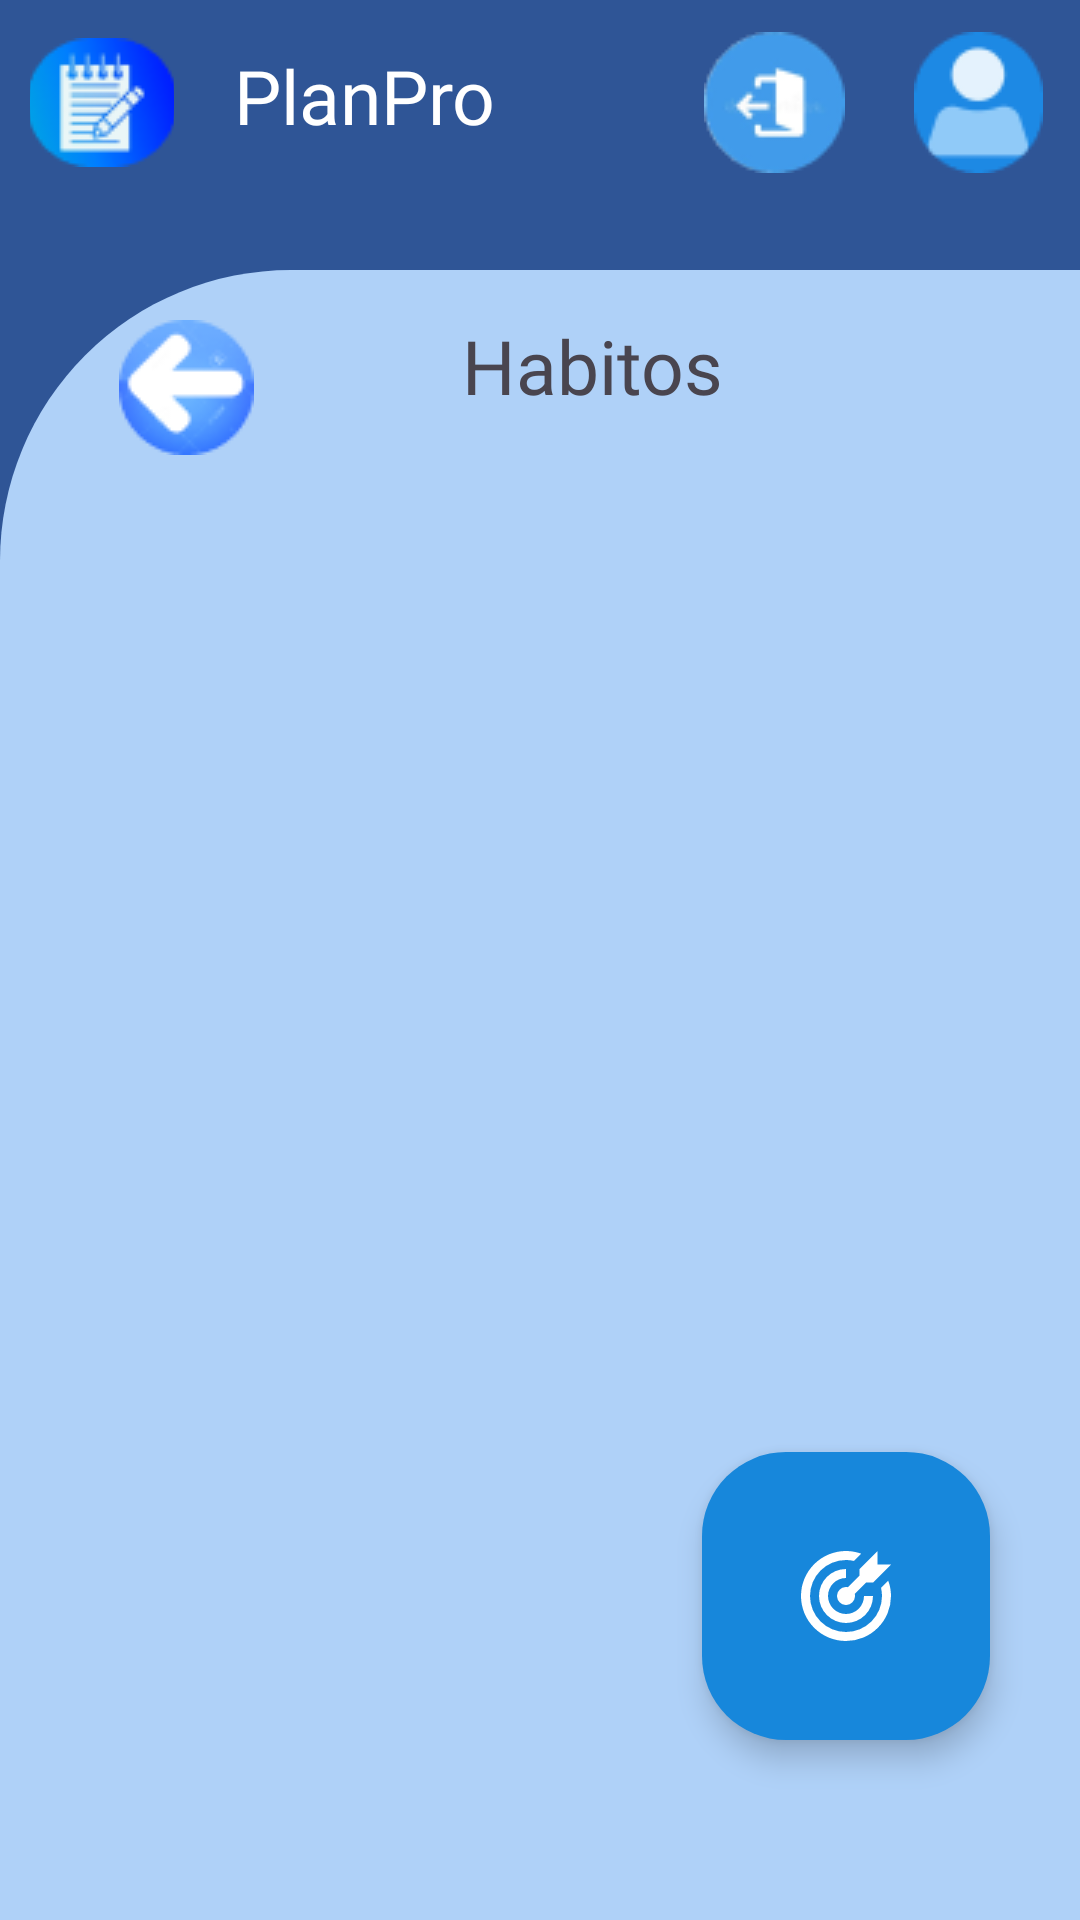

Icon click points for this 1080 × 1920 phone screenshot, format point (x, y):
Atras: point (186, 387)
Crear habito: point (846, 1596)
Perfil de usuario: point (978, 102)
Salir: point (774, 102)
